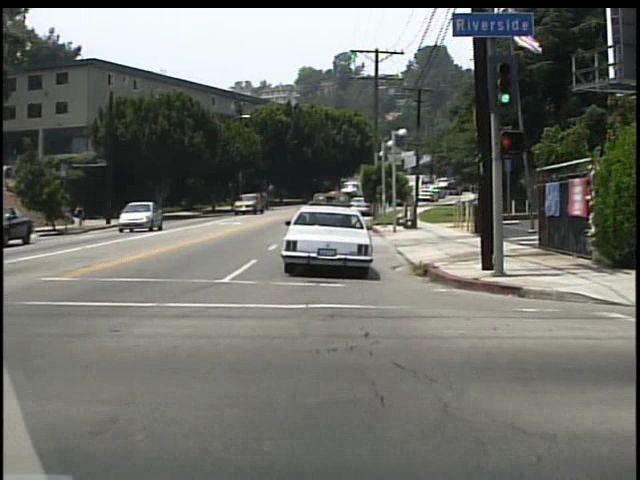person: (74, 203, 89, 228)
